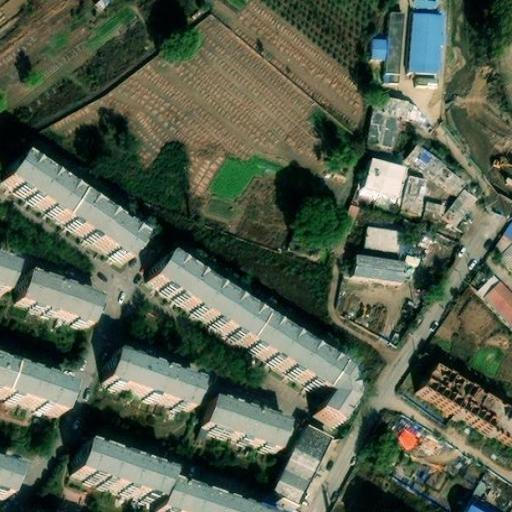building: (152, 254, 356, 427), (6, 156, 145, 266), (425, 361, 512, 436), (70, 447, 169, 507), (103, 360, 196, 419), (274, 424, 333, 503), (10, 279, 93, 335), (199, 407, 281, 459), (0, 371, 76, 422), (406, 144, 467, 199), (366, 94, 411, 154), (474, 272, 512, 330), (373, 12, 403, 85), (157, 487, 239, 512), (367, 159, 411, 200), (354, 254, 418, 282), (442, 189, 475, 226), (432, 305, 464, 342), (365, 226, 408, 252), (403, 176, 425, 215), (0, 251, 20, 293), (460, 495, 503, 512), (495, 226, 512, 268), (422, 200, 443, 221), (415, 72, 436, 89)
